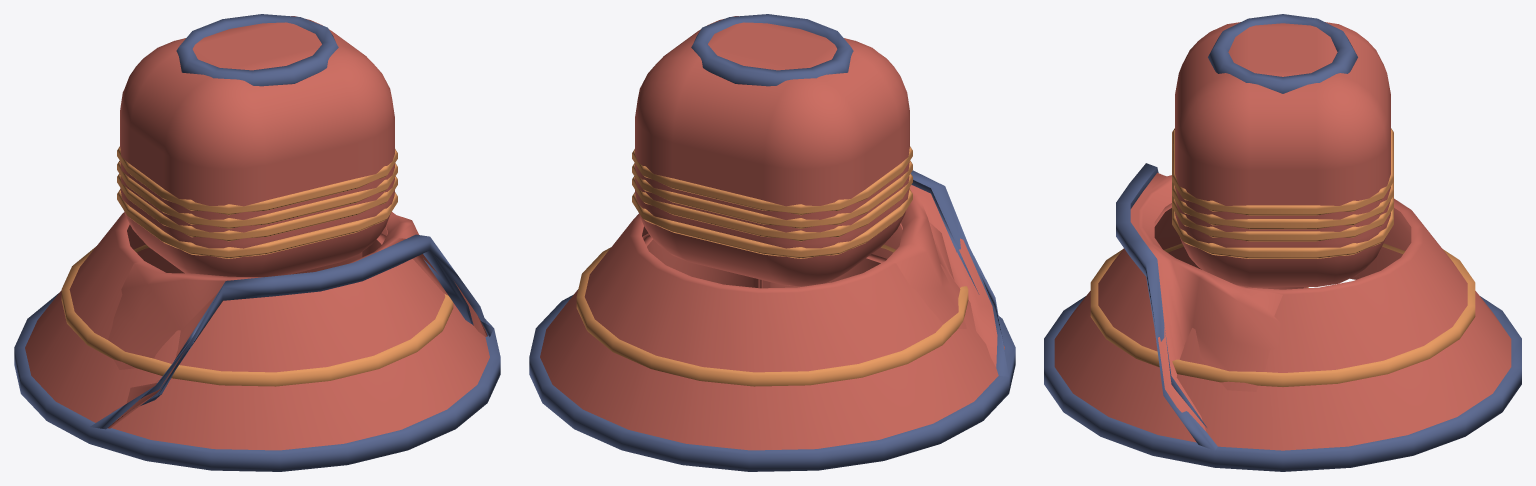
Rendered from paradise_planning_dress.glb.
3 views of the same model, side by side, from view 1: azimuth 30°, elevation 25°; view 2: azimuth 150°, elevation 25°; view 3: azimuth 270°, elevation 25° (orthographic).
Visible parts, largest first — view 1: paradise_planning_dress_Body, paradise_planning_dress_Body_sit; view 2: paradise_planning_dress_Body, paradise_planning_dress_Body_sit, paradise_planning_dress_LegR_sit, paradise_planning_dress_LegL_sit; view 3: paradise_planning_dress_Body, paradise_planning_dress_Body_sit.
Part boxes in pixels (x1=…): paradise_planning_dress_Body: x1=14, y1=14, x2=500, y2=471; paradise_planning_dress_Body_sit: x1=90, y1=46, x2=493, y2=429; paradise_planning_dress_Body: x1=529, y1=14, x2=1015, y2=471; paradise_planning_dress_Body_sit: x1=632, y1=44, x2=1008, y2=376; paradise_planning_dress_LegR_sit: x1=642, y1=233, x2=762, y2=288; paradise_planning_dress_LegL_sit: x1=758, y1=254, x2=886, y2=288; paradise_planning_dress_Body: x1=1044, y1=14, x2=1521, y2=471; paradise_planning_dress_Body_sit: x1=1116, y1=79, x2=1397, y2=450.
Bounding box in the file's own units: 0.648 × 0.5289 × 0.6414.
